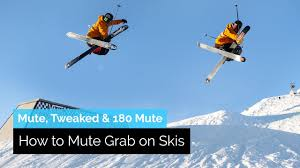skis: (195, 24, 253, 84), (60, 22, 130, 71)
